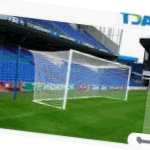goals: (30, 46, 134, 110)
